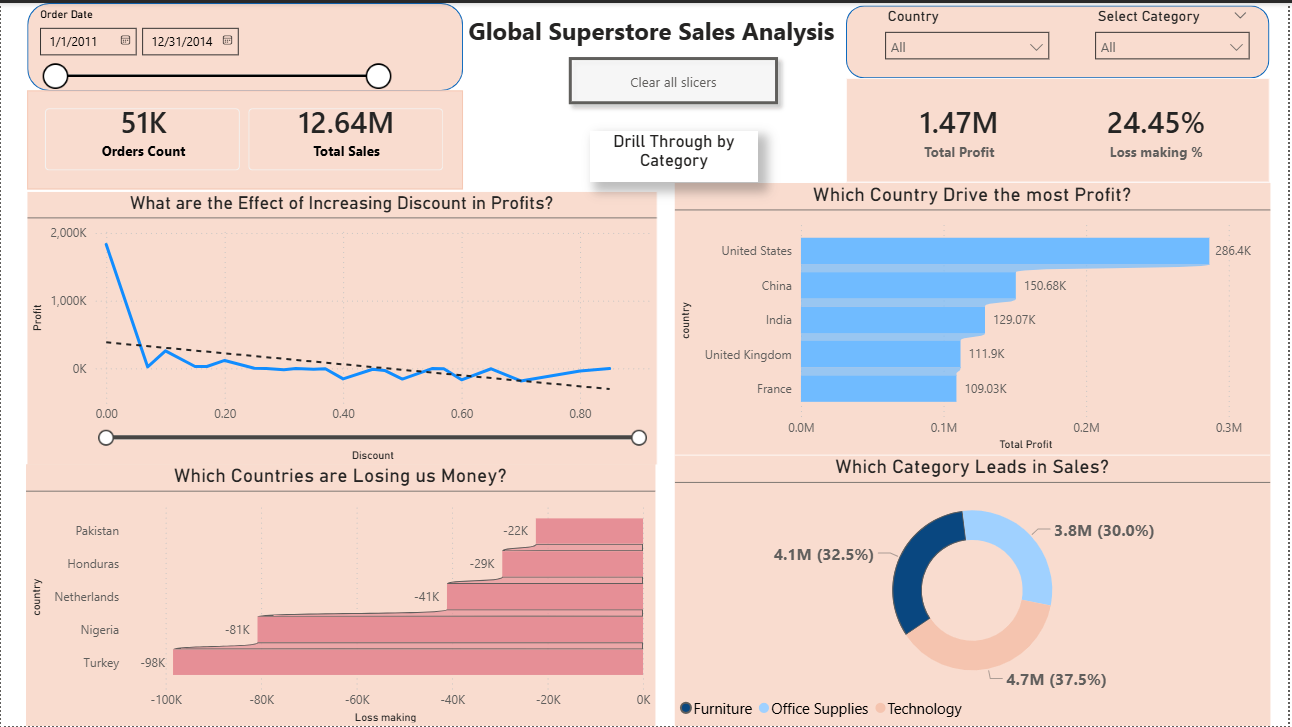

The page's visual inventory and layout, read from the dashboard file:
{"tool":"powerbi","page":{"name":"Global Superstore Sales Analysis","canvas":[1280,720],"ordinal":0},"visuals":[{"type":"shape","box":[26.2,0,433.8,87.5],"z":0},{"type":"textbox","box":[460,6.2,376.2,52.5],"z":1000},{"type":"shape","box":[841.2,2.5,421.2,72.5],"z":2000},{"type":"slicer","fields":{"Values":["Working_Orders.country"]},"box":[870,0,183.8,61.2],"z":3000},{"type":"slicer","fields":{"Values":["Working_Orders.category"]},"box":[1078.8,0,173.8,61.2],"z":4000},{"type":"slicer","fields":{"Values":["Working_Orders.order_date"]},"box":[26,0,371,89],"z":5000},{"type":"cardVisual","fields":{"Data":["_metrics.Orders Count","Sum(Working_Orders.sales)"]},"box":[26.2,87.5,433.8,98.8],"z":6000},{"type":"actionButton","box":[556.2,45,226.2,65],"z":7000},{"type":"barChart","title":"Which Country Drive the most Profit?","fields":{"Category":["Working_Orders.country"],"Y":["Sum(Working_Orders.profit)"]},"box":[670,178.8,592.5,270],"z":8000},{"type":"barChart","title":"Which Countries are Losing us Money?","fields":{"Category":["Working_Orders.country"],"Y":["Sum(Working_Orders.profit)"]},"box":[25,458.8,626.2,261.2],"z":9000},{"type":"donutChart","title":"Which Category Leads in Sales?","fields":{"Series":["Working_Orders.category"],"Y":["_metrics.Total Sales"]},"box":[670,450,592.5,270],"z":10000},{"type":"lineChart","title":"What are the Effect of Increasing Discount in Profits?","fields":{"Category":["Working_Orders.discount"],"Y":["_metrics.Total Profit"]},"box":[26.2,187.5,626.2,271.2],"z":11000},{"type":"cardVisual","fields":{"Data":["_metrics.Total Profit","_metrics.Loss making %"]},"box":[841.2,75,421.2,103.8],"z":12000},{"type":"actionButton","title":"Drill Through by Category","box":[586.2,127.5,167.5,51.2],"z":12001}]}

Visuals, with their boxes in screenshot pixels (x1, y1, x2, y2), scaled from the page's 1280x720 canvas onto the 1292x727 screenshot:
shape: [26, 0, 464, 88]
textbox: [464, 6, 844, 59]
shape: [849, 3, 1274, 76]
slicer - Working_Orders.country: [878, 0, 1064, 62]
slicer - Working_Orders.category: [1089, 0, 1264, 62]
slicer - Working_Orders.order_date: [26, 0, 401, 90]
cardVisual - _metrics.Orders Count x Sum(Working_Orders.sales): [26, 88, 464, 188]
actionButton: [561, 45, 790, 111]
"Which Country Drive the most Profit?" barChart: [676, 181, 1274, 453]
"Which Countries are Losing us Money?" barChart: [25, 463, 657, 726]
"Which Category Leads in Sales?" donutChart: [676, 454, 1274, 726]
"What are the Effect of Increasing Discount in Profits?" lineChart: [26, 189, 659, 463]
cardVisual - _metrics.Total Profit x _metrics.Loss making %: [849, 76, 1274, 181]
"Drill Through by Category" actionButton: [592, 129, 761, 180]
